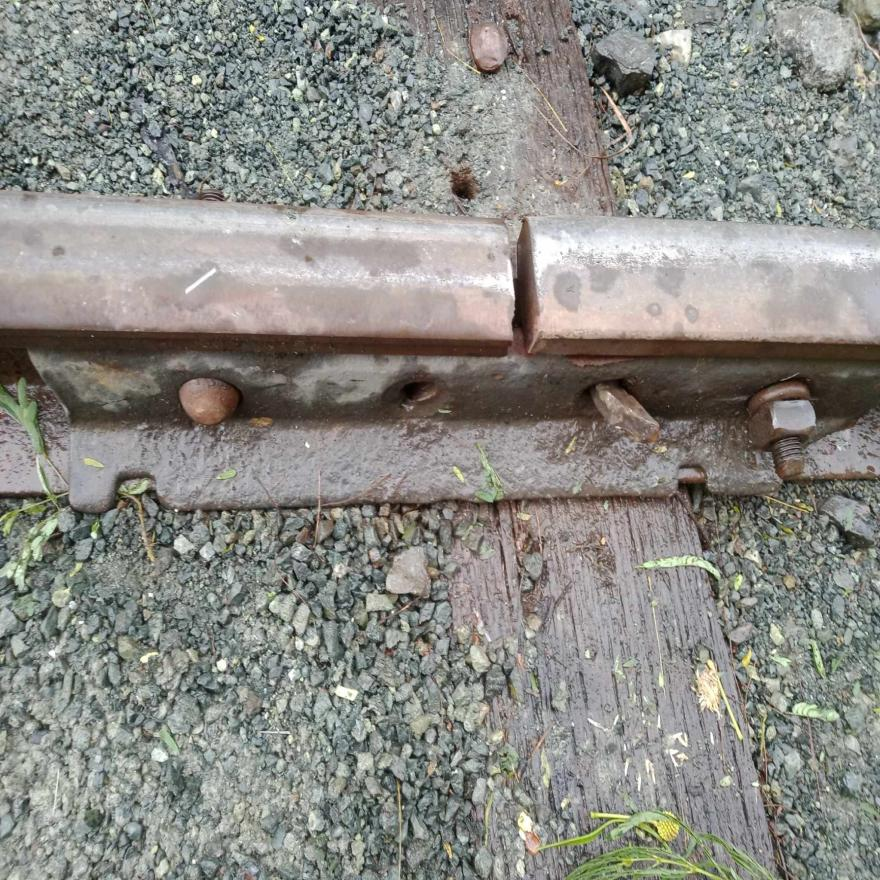railway-gap: (443, 189, 593, 385)
